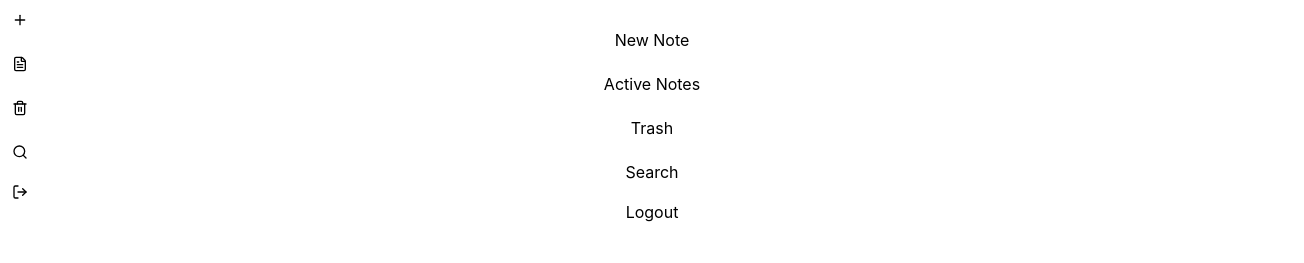
Test case: SidebarNav ([Decision D4] active-state resolution via useLocation + optional activeTab/onTabChange) › SHALL navigate to /search when the Search button is clicked
Click the button "Search": (652, 164) [12,144,1292,184]
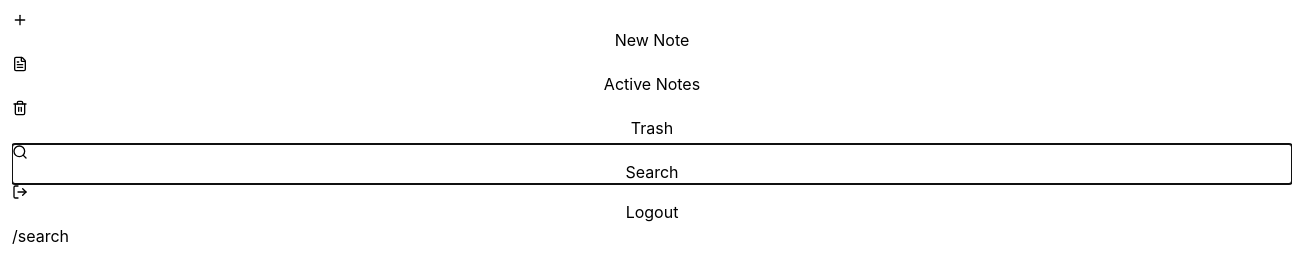
Check: the text with test id "location" reads "/search", box [12,226,69,246]
